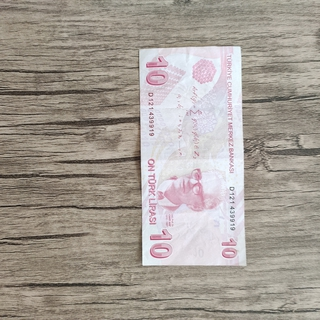10TLBack: (137, 45, 247, 267)
